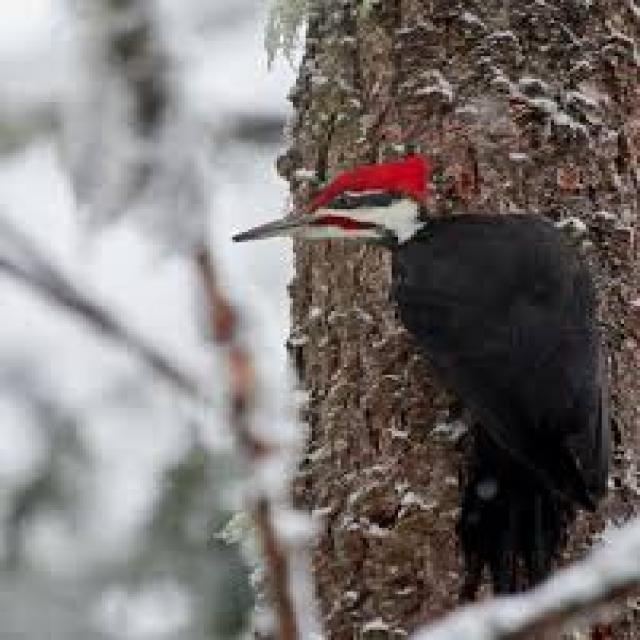Woodpecker: (236, 165, 625, 585)
